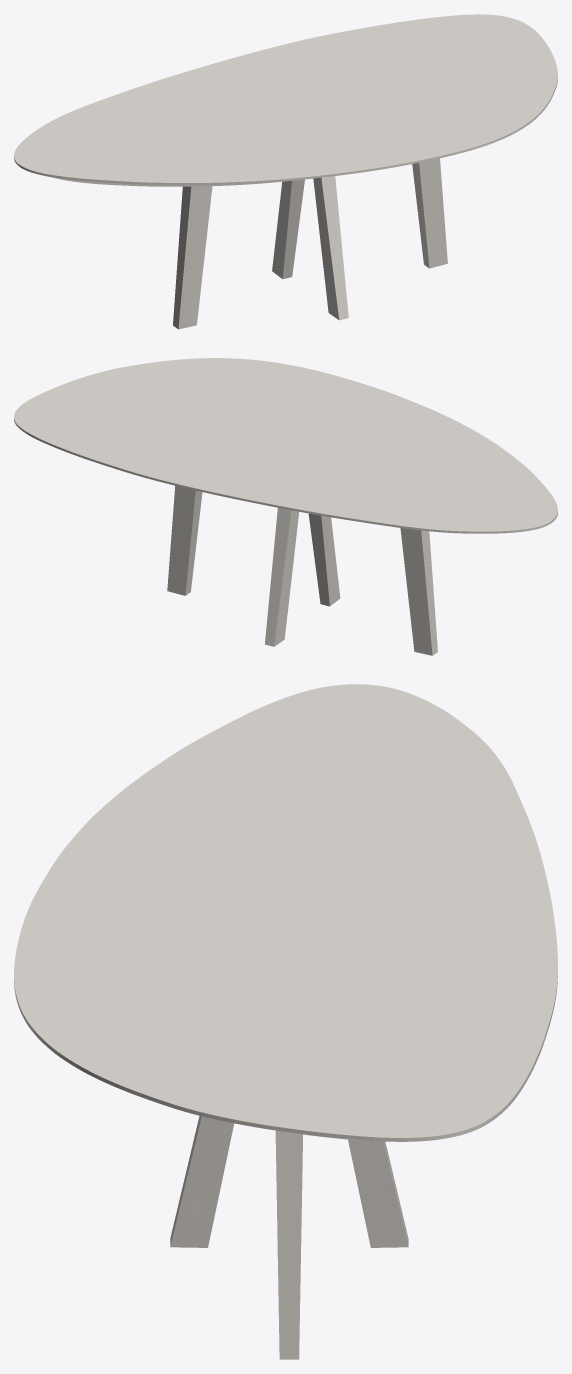
File: pearlwhite_pebbletop_facet_searwalnut.glb
3 views of the same model, one above another, from view 1: azimuth 30°, elevation 25°; view 2: azimuth 150°, elevation 25°; view 3: azimuth 270°, elevation 25° (orthographic). The views are drawn at different scales.
Visible parts, largest first — view 1: facet_pebbletop, searwalnut; view 2: facet_pebbletop, searwalnut; view 3: facet_pebbletop, searwalnut.
Boxes of the visible parts, x1,y1,x2,y2 form: facet_pebbletop: [14, 14, 557, 186]; searwalnut: [173, 158, 447, 329]; facet_pebbletop: [14, 358, 557, 533]; searwalnut: [167, 486, 437, 655]; facet_pebbletop: [14, 684, 557, 1141]; searwalnut: [170, 1115, 408, 1359].
Size of the model in its own units: 7.5 by 2.5 by 3.8.
Materials: 1 (1 with a texture image).
